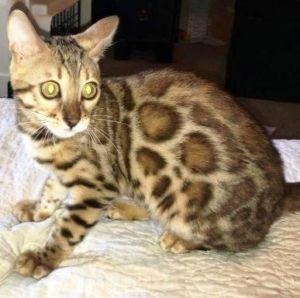bengal: (6, 8, 123, 144)
